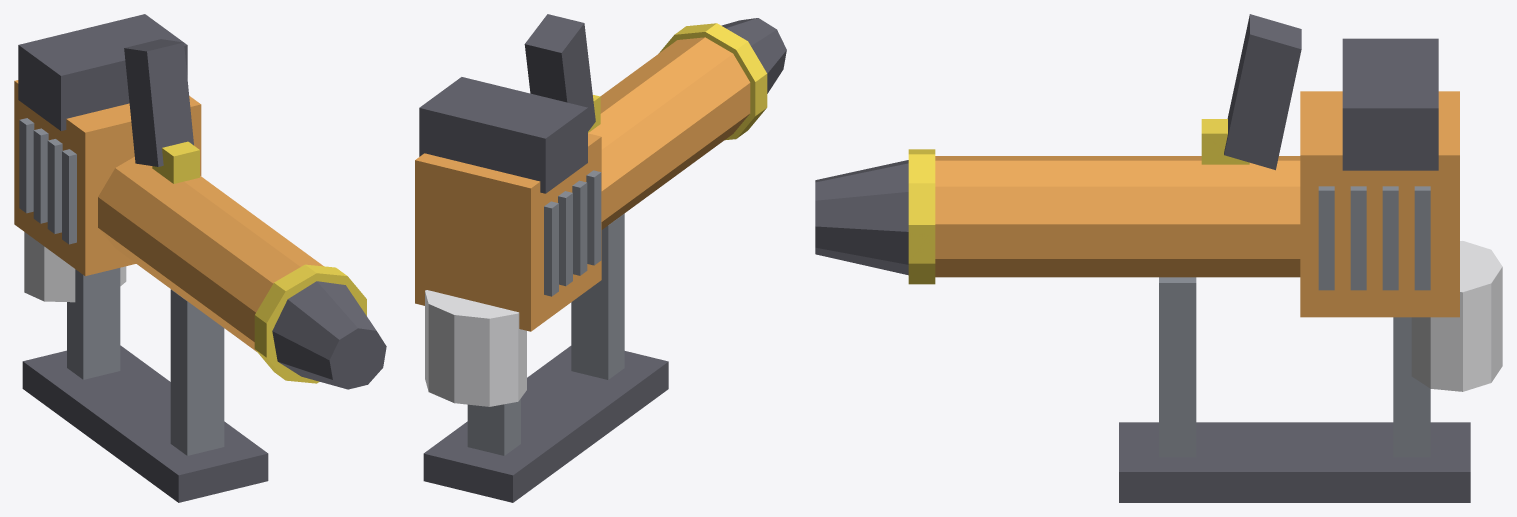
File: leaf_blower.glb
3 renders of one model, left to right at view 1: azimuth 30°, elevation 25°; view 2: azimuth 150°, elevation 25°; view 3: azimuth 270°, elevation 25°, orthographic. The views are drawn at different scales.
Parts seen in each view (by area): view 1: leaf_blower; view 2: leaf_blower; view 3: leaf_blower.
Boxes of the visible parts, bbox=[...] form: leaf_blower: bbox=[14, 14, 386, 502]; leaf_blower: bbox=[415, 14, 786, 502]; leaf_blower: bbox=[815, 14, 1502, 502].
Bounding box in the file's own units: 0.25 × 0.7291 × 1.
